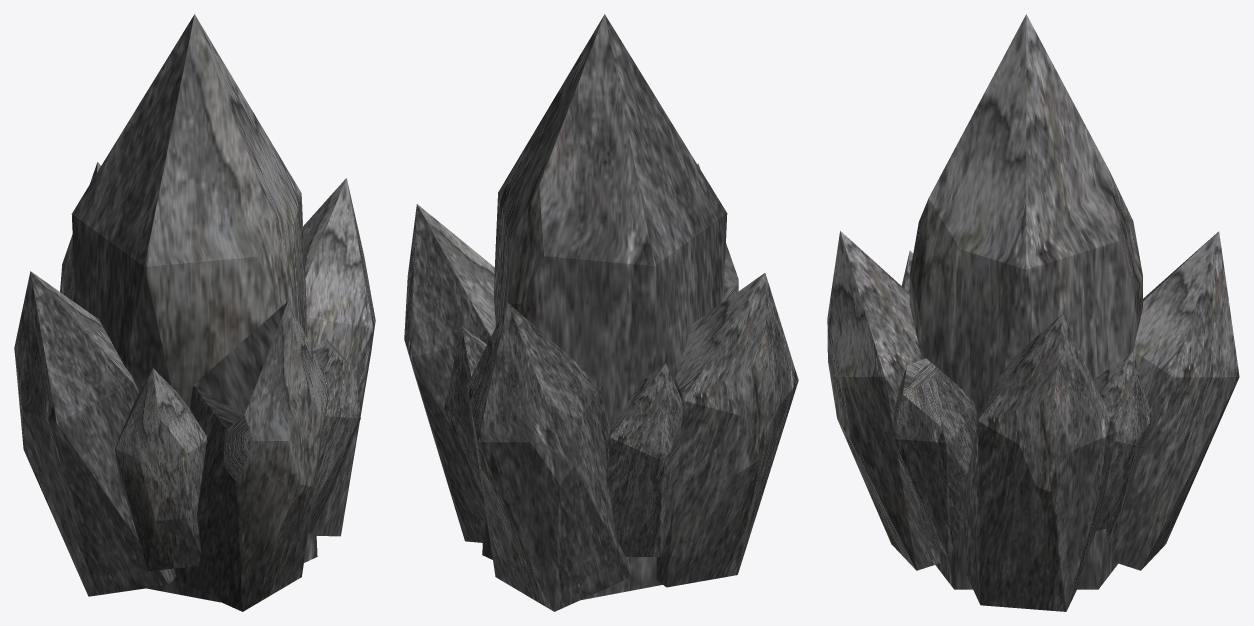
Rendered from Caillou_attack_1_Boss_Roche.glb.
3 views of the same model, side by side, from view 1: azimuth 30°, elevation 25°; view 2: azimuth 150°, elevation 25°; view 3: azimuth 270°, elevation 25° (orthographic).
Parts seen in each view (by area): view 1: Icosphere.008; view 2: Icosphere.008; view 3: Icosphere.008.
Part boxes in pixels (x1,y1,x2,y2): Icosphere.008: (14,14,375,611); Icosphere.008: (404,14,798,611); Icosphere.008: (827,14,1239,611).
Bounding box in the file's own units: 5.4 × 7.86 × 5.44.
Materials: 1 (1 with a texture image).
